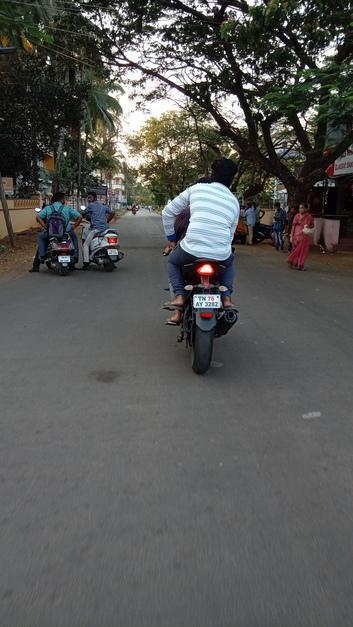speedbreaker: (121, 239, 166, 253), (235, 244, 271, 258)
